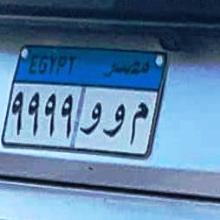9: (58, 90, 74, 138), (43, 88, 56, 139), (27, 90, 40, 136), (12, 89, 24, 135)
meem: (128, 99, 149, 149)
waw: (105, 98, 124, 140), (82, 100, 101, 140)
